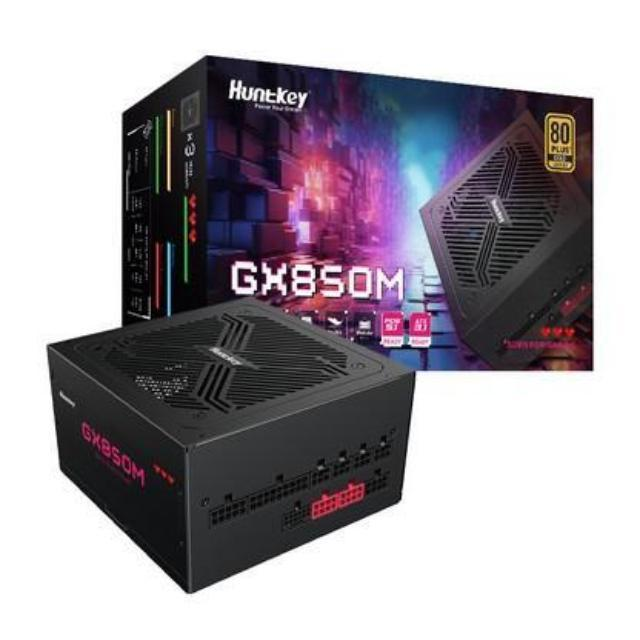PSU: (42, 287, 424, 596)
